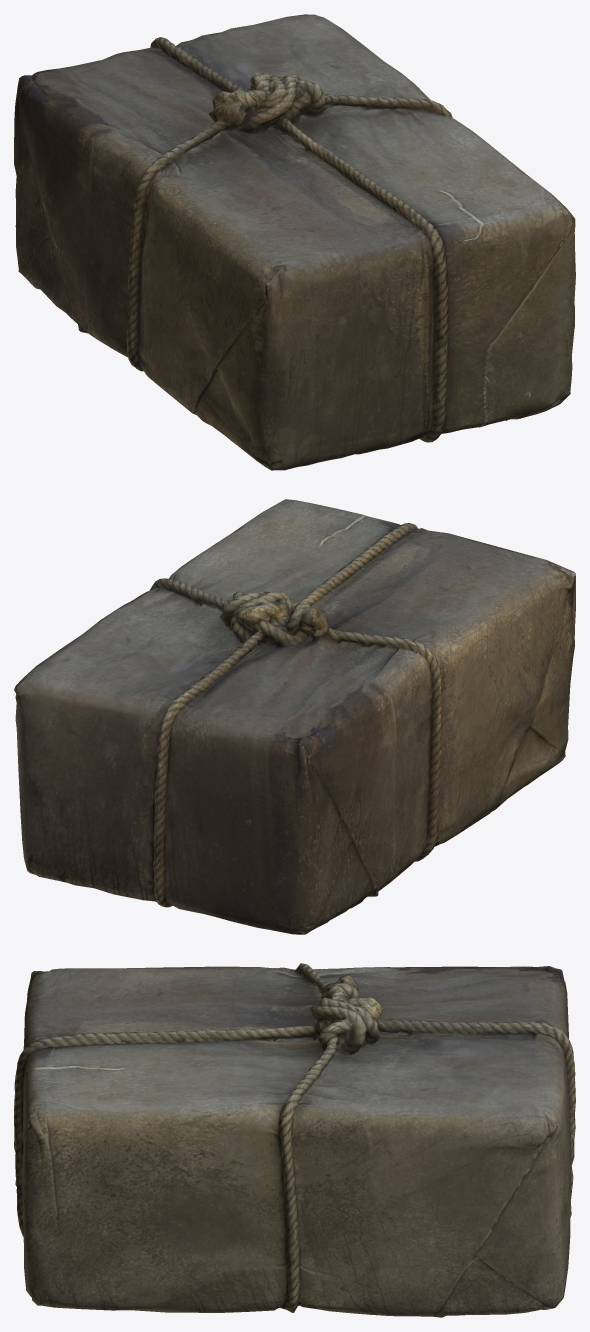
File: MOD_Canvas_Crate_C.fbx
The picture shows the model from 3 angles, top to bottom: view 1: azimuth 30°, elevation 25°; view 2: azimuth 150°, elevation 25°; view 3: azimuth 270°, elevation 25°; orthographic projection. The views are drawn at different scales.
Visible parts, largest first — view 1: MOD_Canvas_Crate_C; view 2: MOD_Canvas_Crate_C; view 3: MOD_Canvas_Crate_C.
Boxes of the visible parts, box(x1,y1,x2,y2) form: MOD_Canvas_Crate_C: box(14, 14, 575, 470); MOD_Canvas_Crate_C: box(14, 499, 575, 934); MOD_Canvas_Crate_C: box(14, 963, 575, 1317).
Size of the model in its own units: 64.92 by 48.67 by 96.71.
